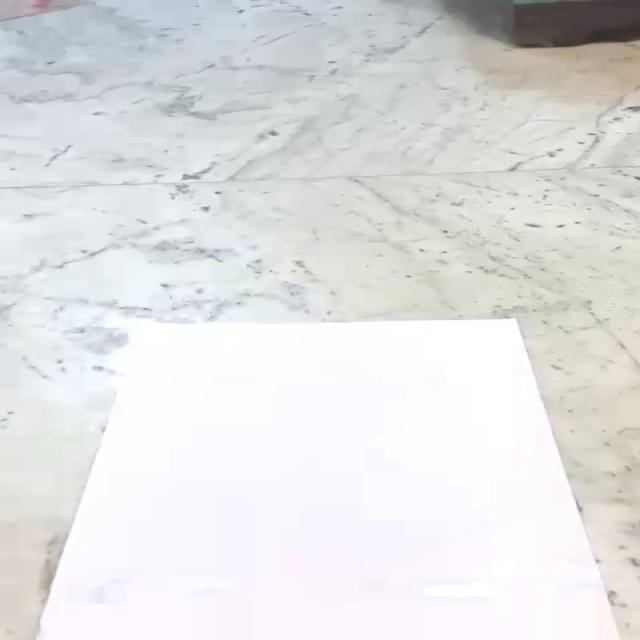road: (33, 319, 624, 640)
